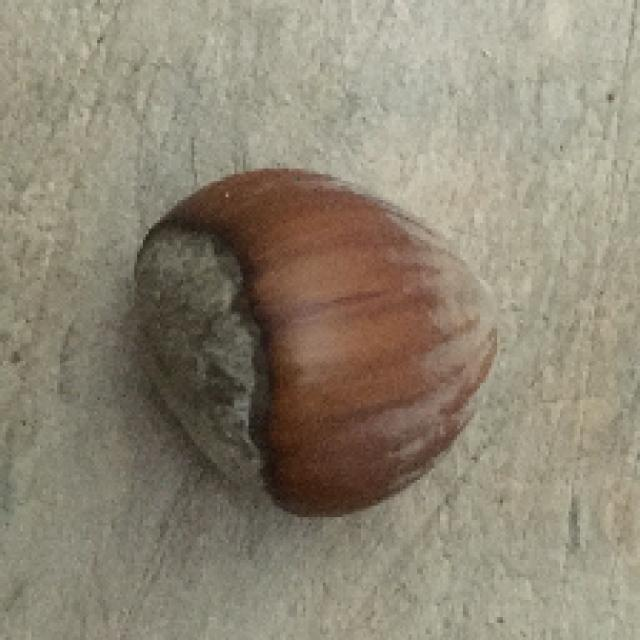qualityHazelnut: (132, 164, 507, 518)
